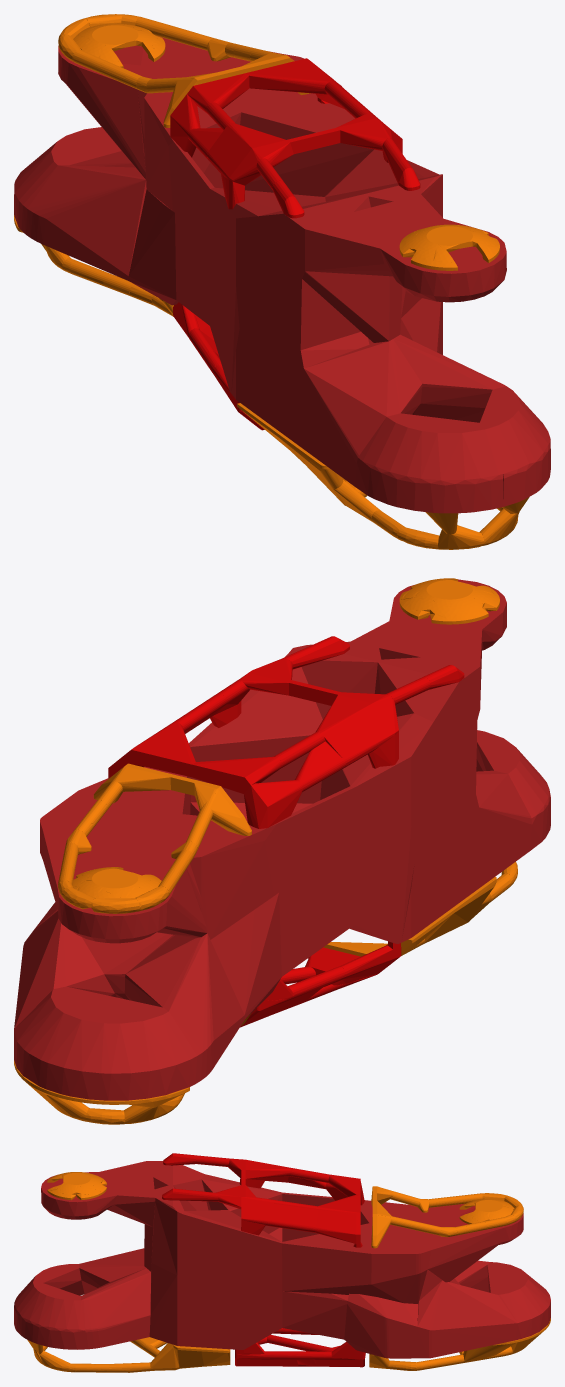
File: RLEG_LINK2_mesh.dae
The picture shows the model from 3 angles, top to bottom: view 1: azimuth 30°, elevation 25°; view 2: azimuth 150°, elevation 25°; view 3: azimuth 270°, elevation 25°; orthographic projection. The views are drawn at different scales.
Parts seen in each view (by area): view 1: RLEG_LINK2 (×8); view 2: RLEG_LINK2 (×8); view 3: RLEG_LINK2 (×8).
Part boxes in pixels (left/top/right/bottom): RLEG_LINK2 (×8): left=14, top=14, right=550, bottom=549; RLEG_LINK2 (×8): left=14, top=578, right=550, bottom=1124; RLEG_LINK2 (×8): left=14, top=1153, right=550, bottom=1372.
Bounding box in the file's own units: 0.1489 × 0.182 × 0.495.
